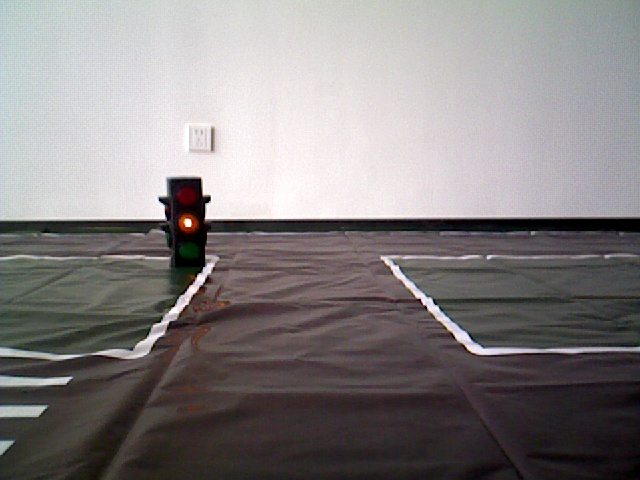yellow: (159, 174, 211, 266)
